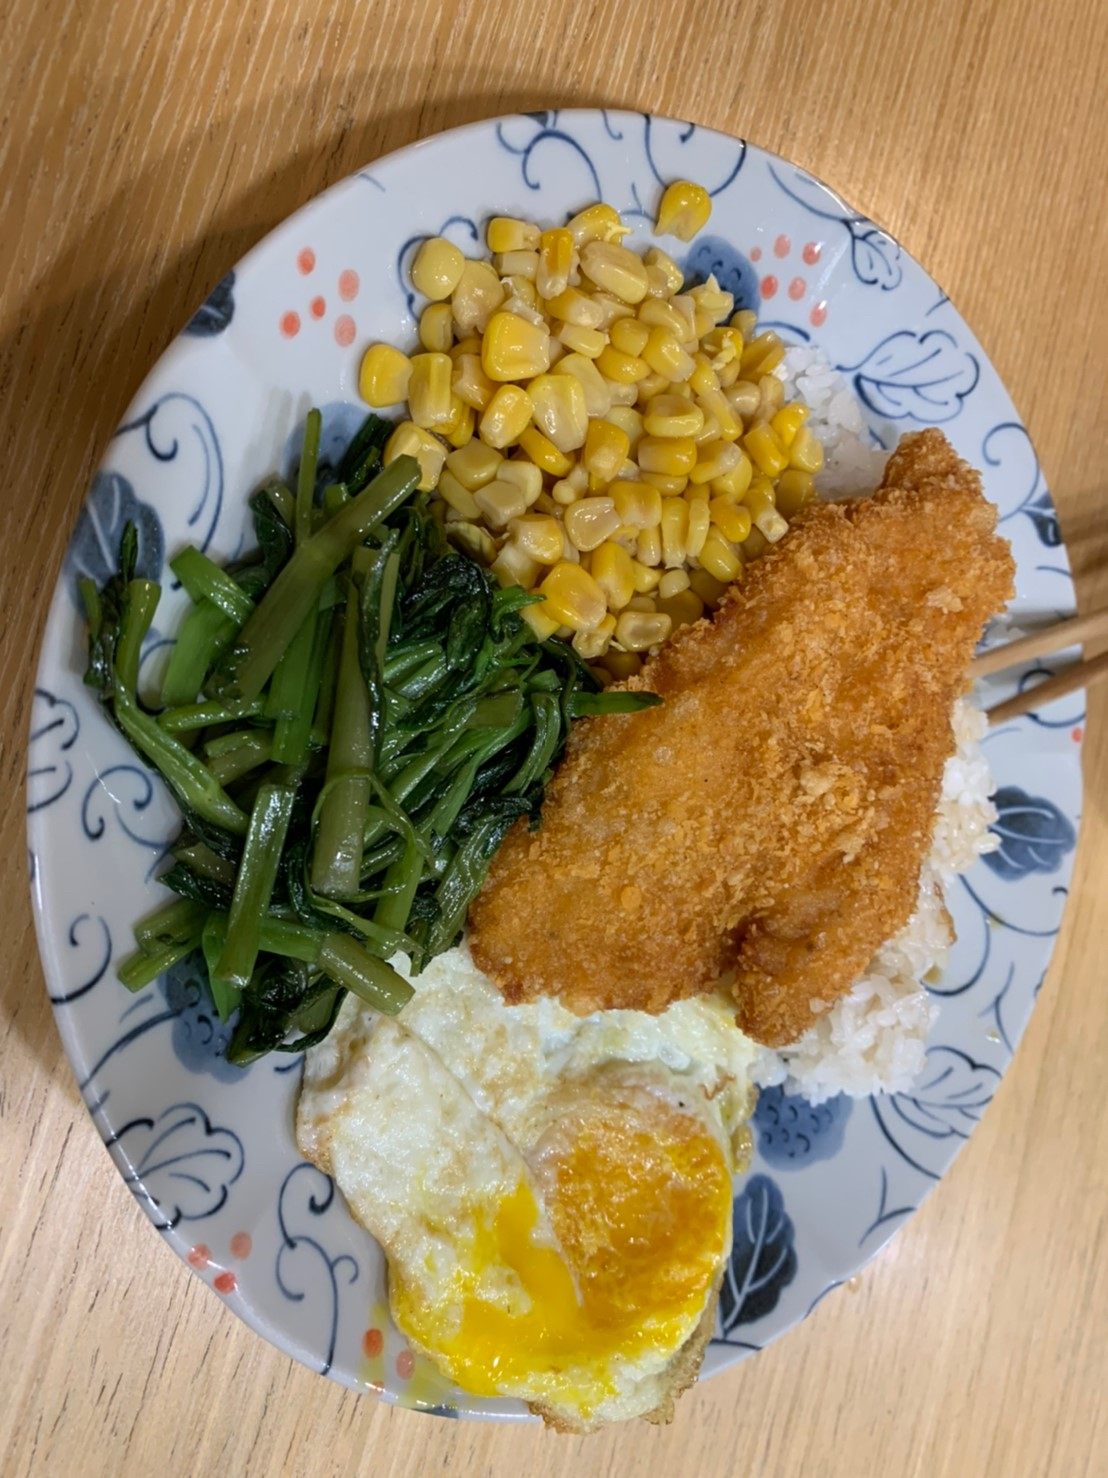fried_chicken: (489, 429, 1016, 1014)
fried_eggs: (299, 992, 724, 1429)
water_spinach: (154, 486, 484, 955)
